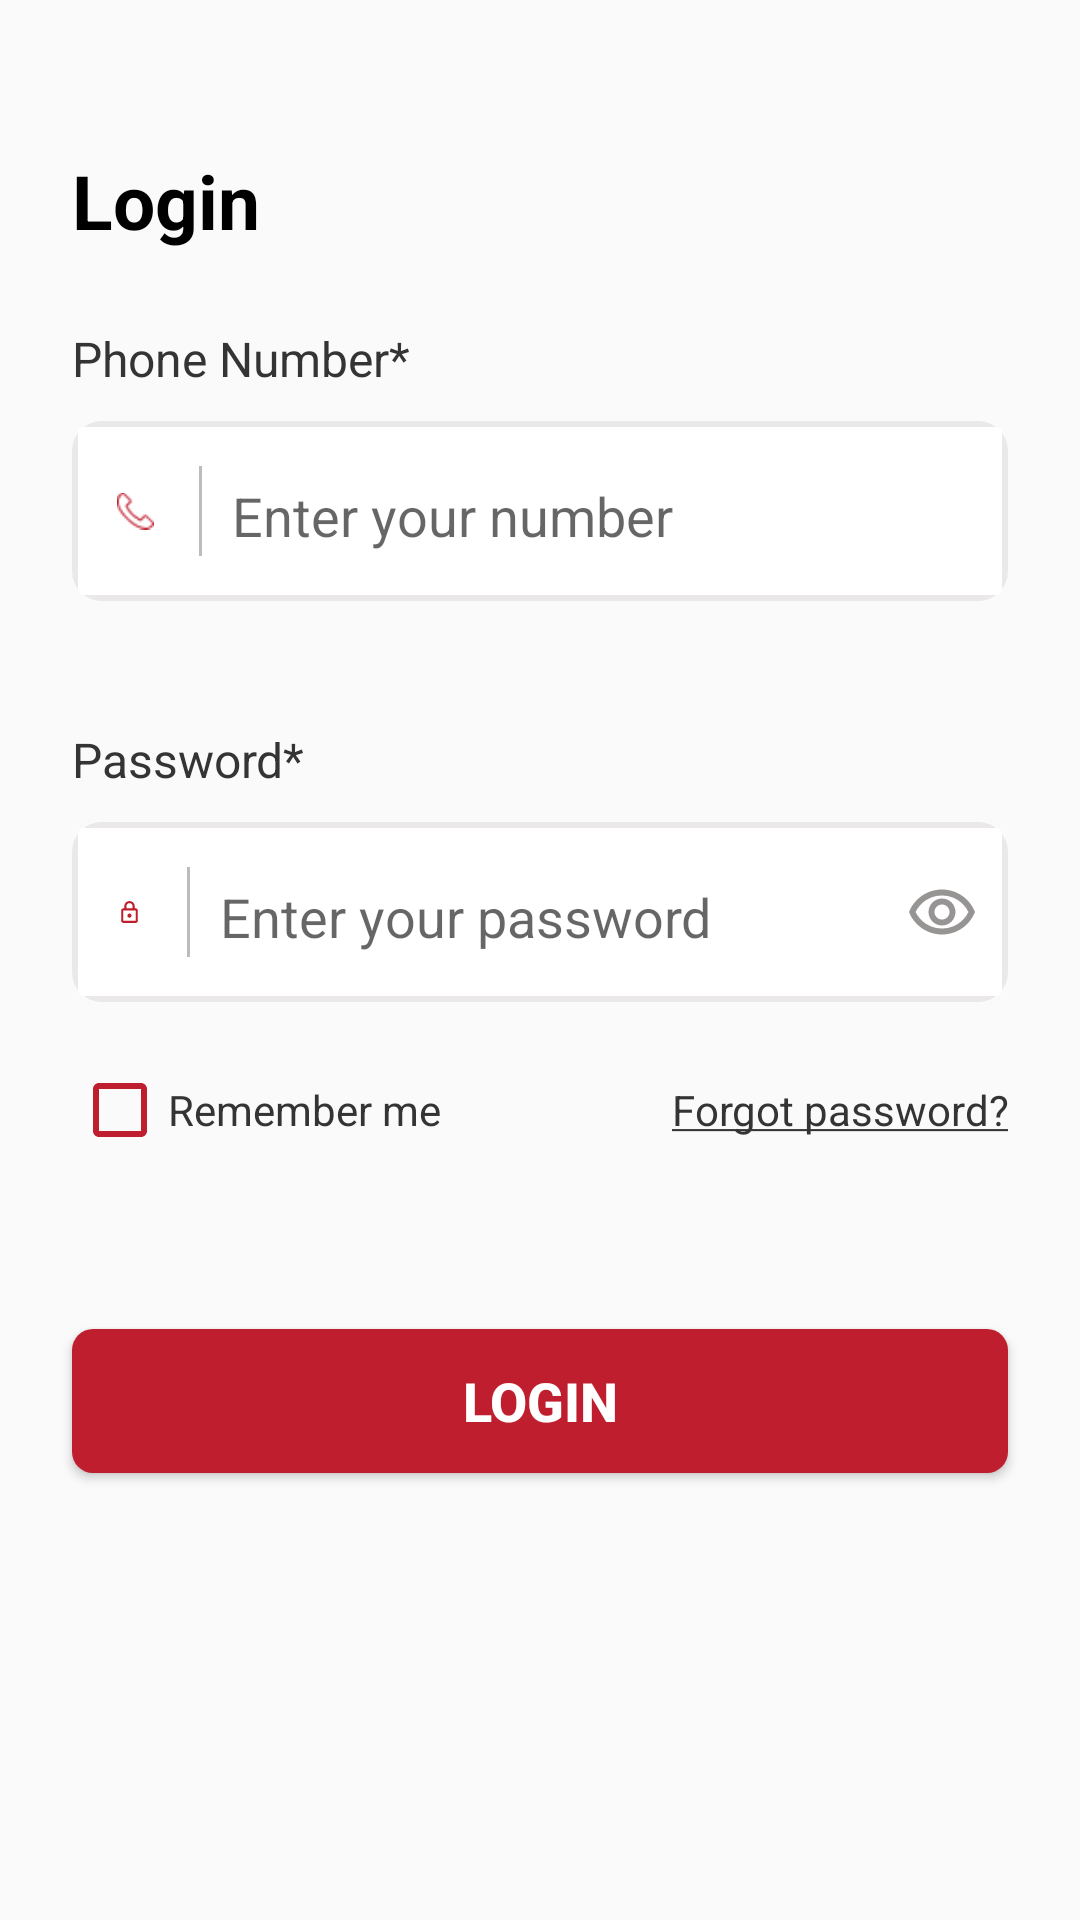

Locate icon controls on the screen. Image size 1080 x 1920, boxes as (x1, y1, x2, y2).
eye: (909, 889, 975, 935)
